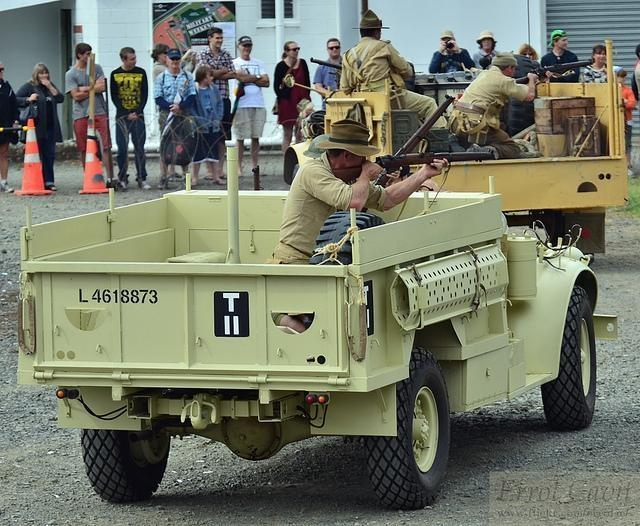truck: (16, 138, 598, 510), (283, 37, 628, 258)
